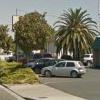Palm tree: (53, 4, 95, 59)
